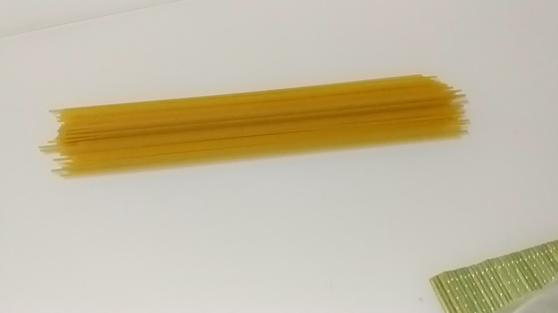spaghetti: (20, 61, 482, 204)
